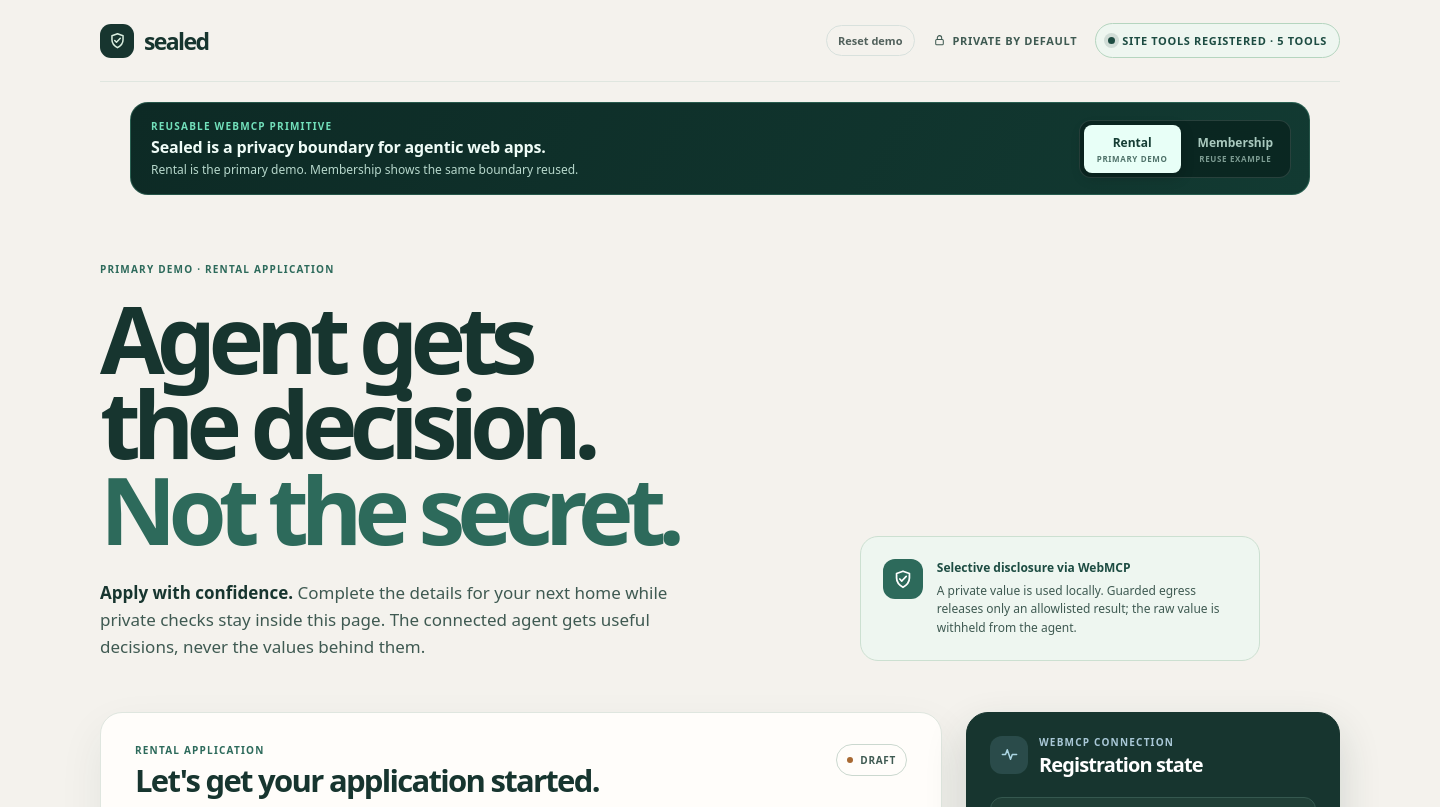
Test: reusable scenario privacy architecture › switches the visible workflow and re-registers a scenario-specific surface
Check: the element with test id "site-tools-status" shows "5 tools", box top-left (1122, 33), bottom-right (1327, 48)
What coordinates should you click on to do the following:
click the button "Membership Reuse example"
I would click on:
 (1235, 148)
Its box is top-left (1185, 124), bottom-right (1286, 172).
(page scrolled)
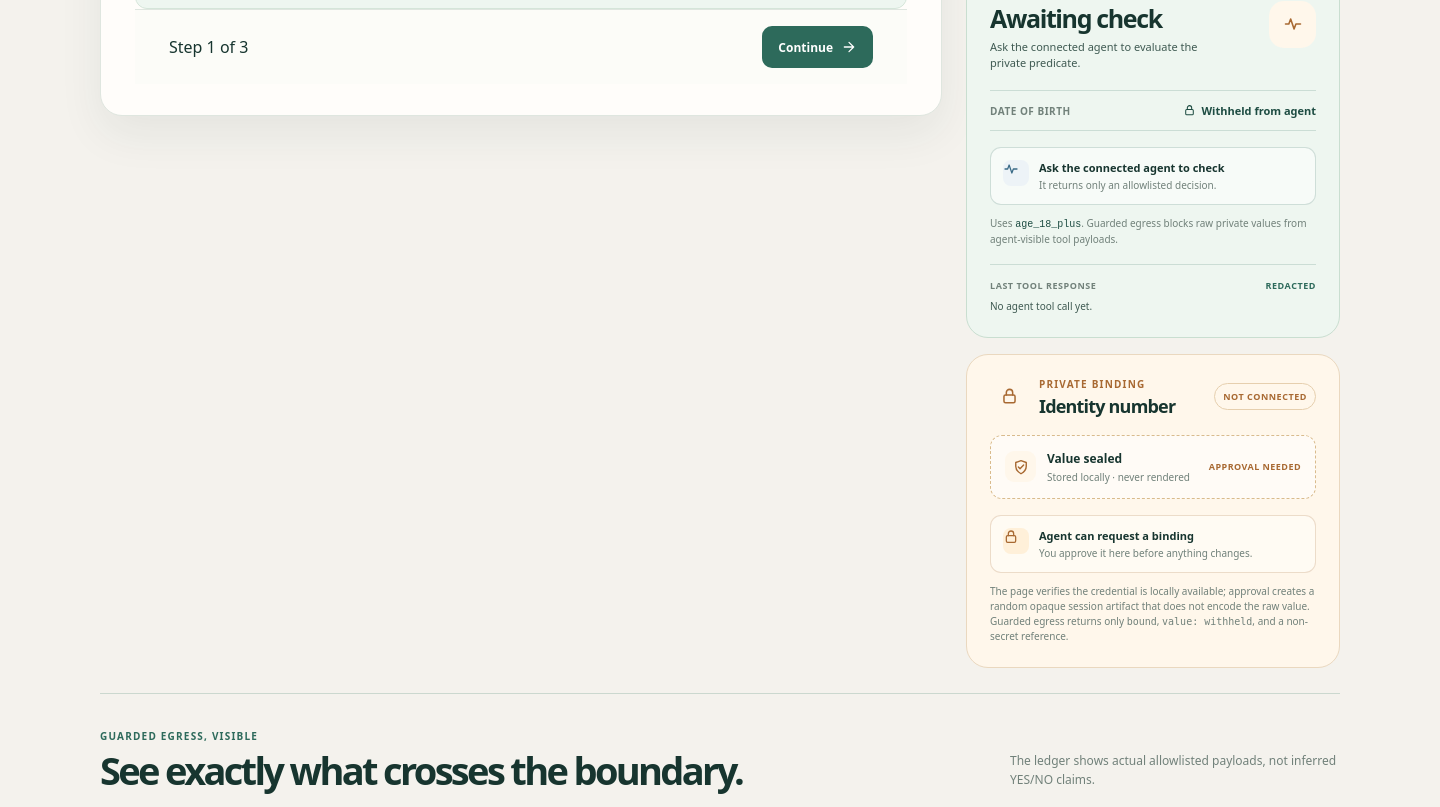
Check: the text "Date of birth" is shown, box top-left (990, 104), bottom-right (1071, 118)
Check: the heading "Identity number" is shown, box top-left (1039, 394), bottom-right (1175, 418)
